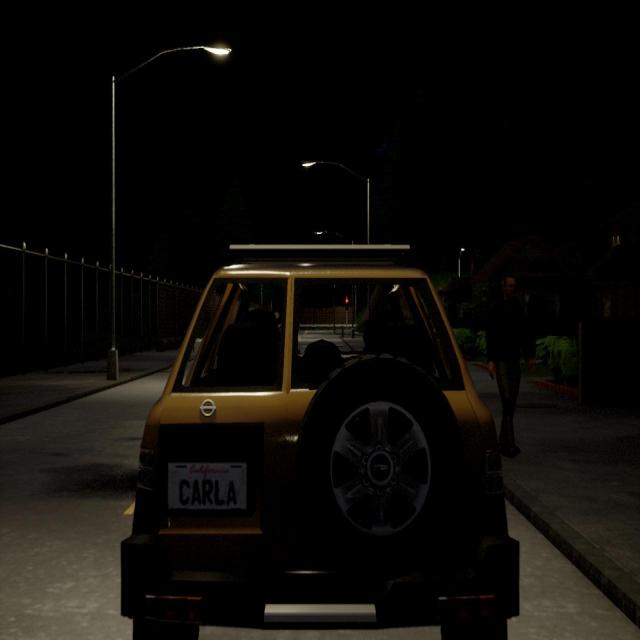Pedestrian: (486, 274, 529, 456)
Vehicle: (121, 245, 518, 638)
traffic_light: (344, 296, 349, 311)
